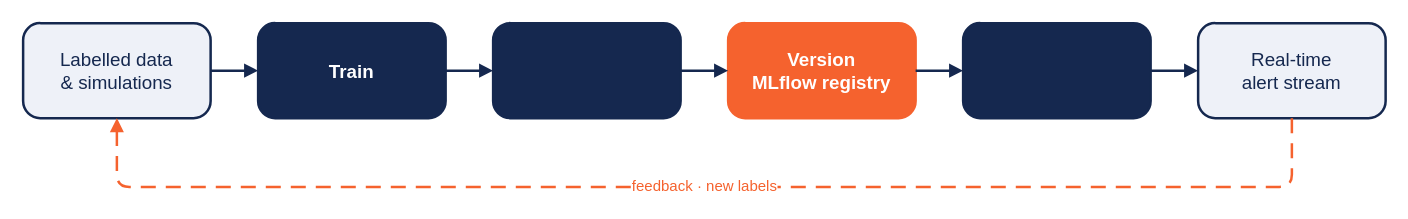
Image size: 1408x219. Some labels were removed from this diagram. Each missing label, with the centre of its shape:
Deploy science module: point 1056,70
Validate: point 586,70
